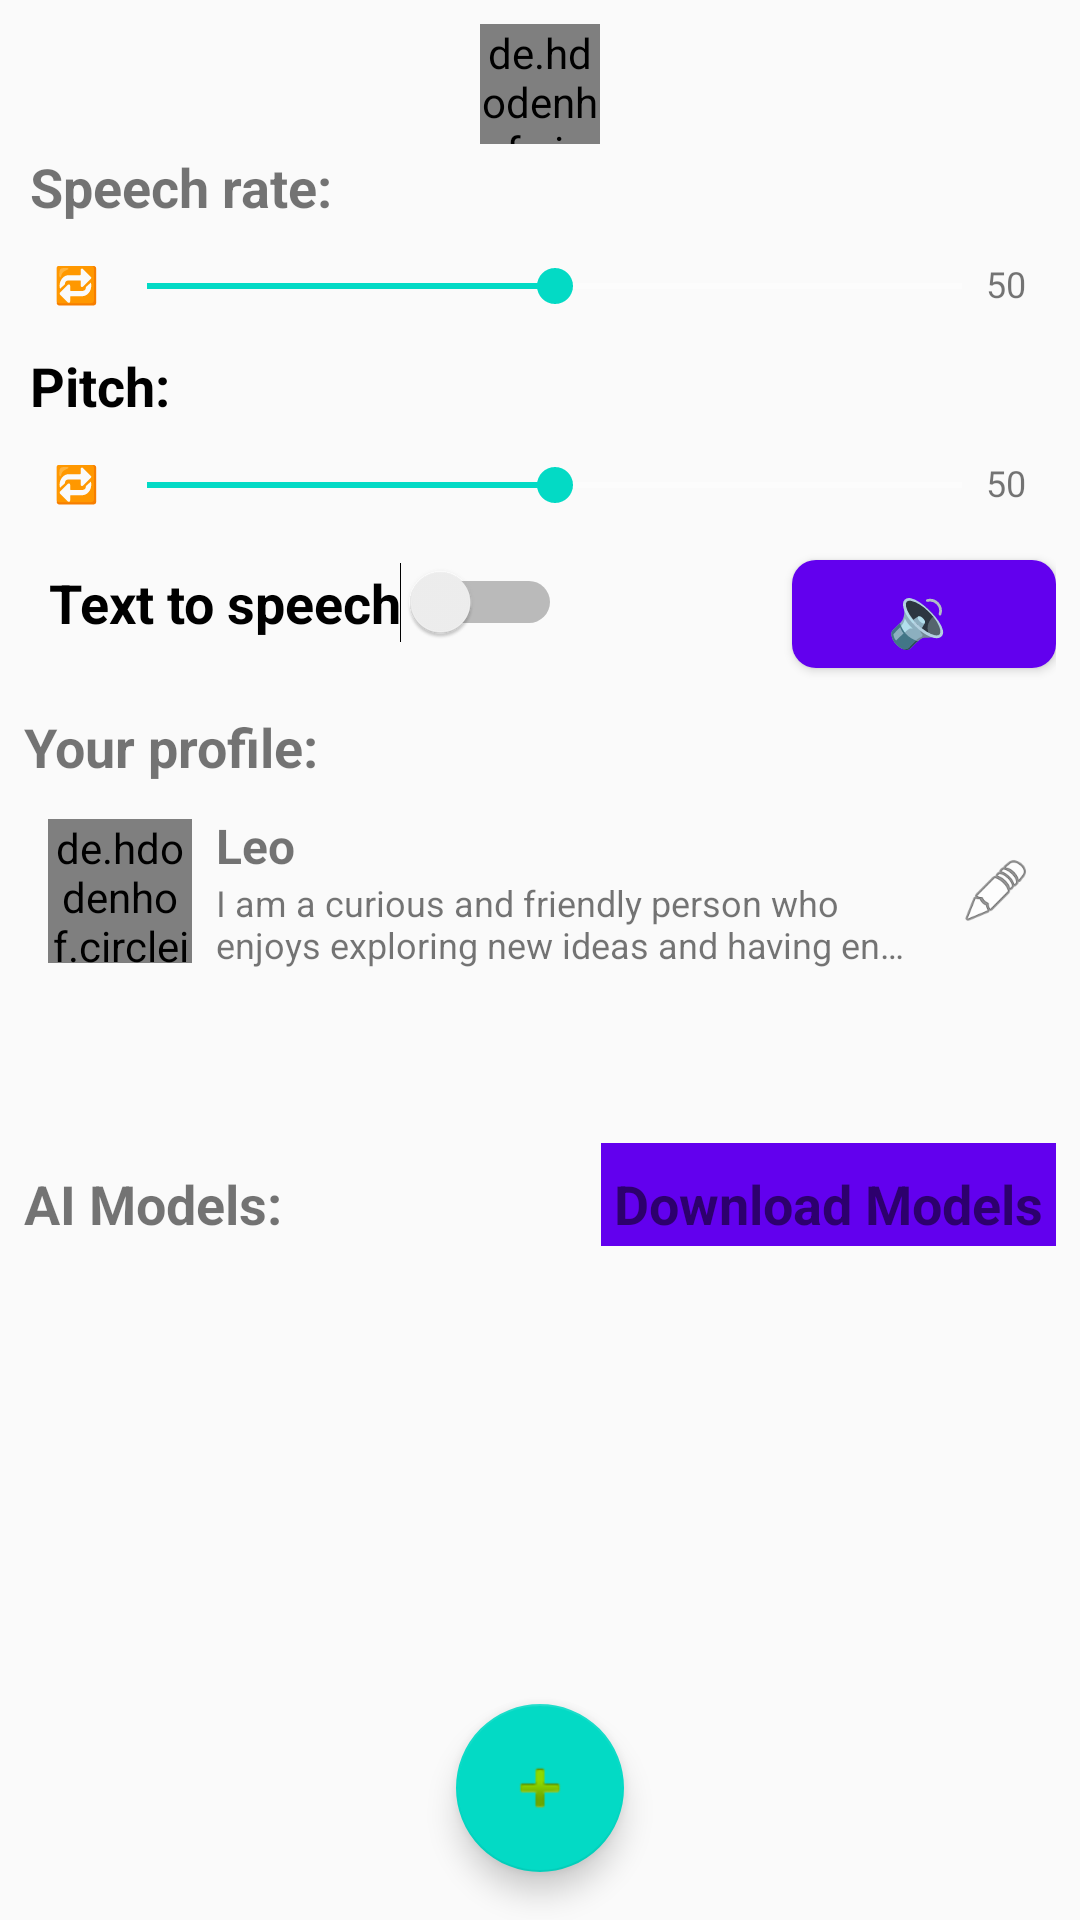

Icon click points for this 1080w x 1920h phone screenshot, format (x,y):
add: (540,1788)
Edit Model: (995,890)
